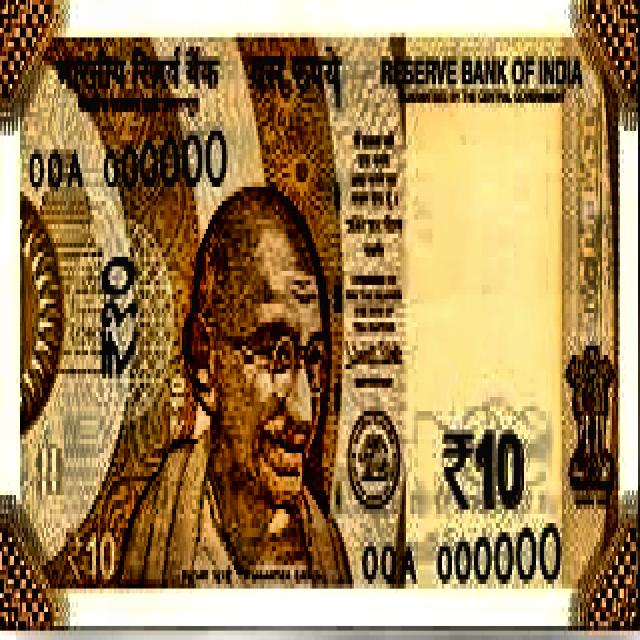-10-: (0, 5, 640, 609)
